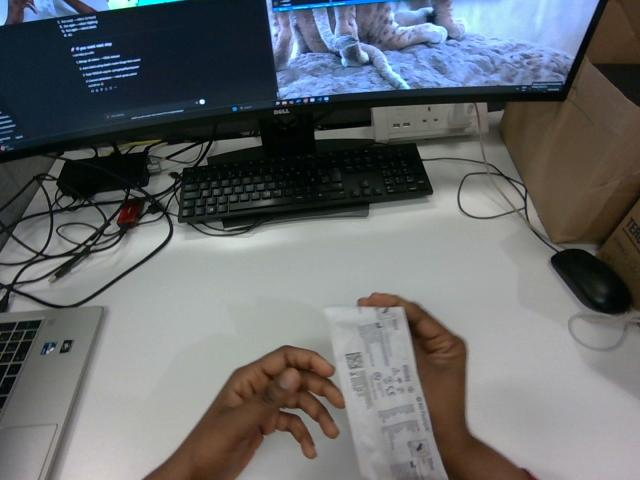syringe: (324, 307, 447, 479)
